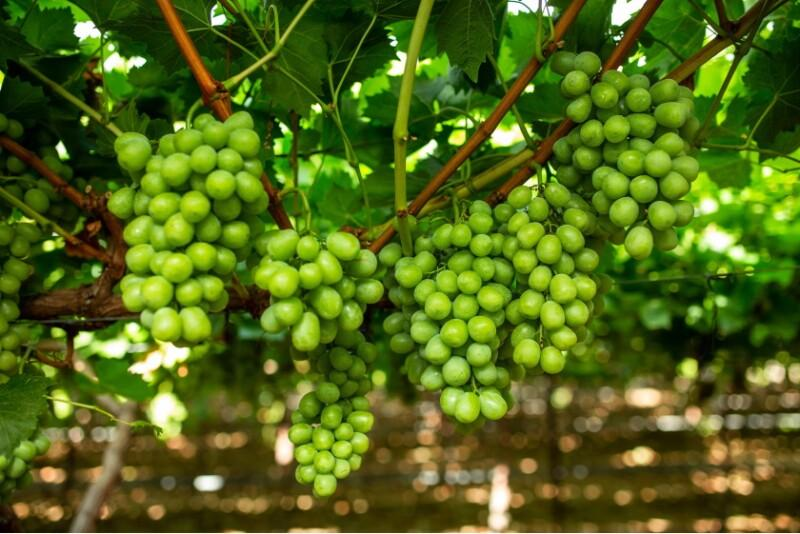grape: (107, 108, 262, 356), (543, 45, 704, 254), (393, 222, 516, 431), (499, 181, 606, 375), (256, 222, 391, 353), (277, 354, 373, 494)
